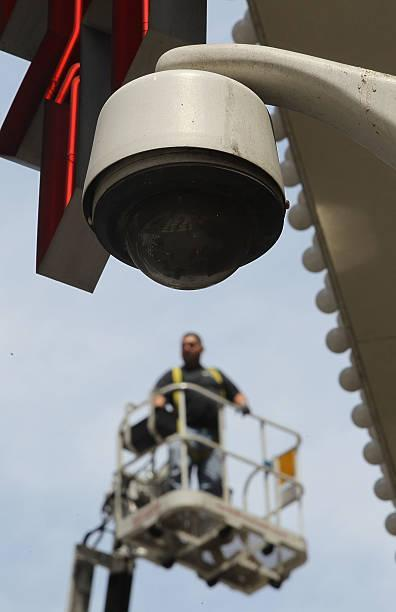camera: (68, 60, 317, 298)
